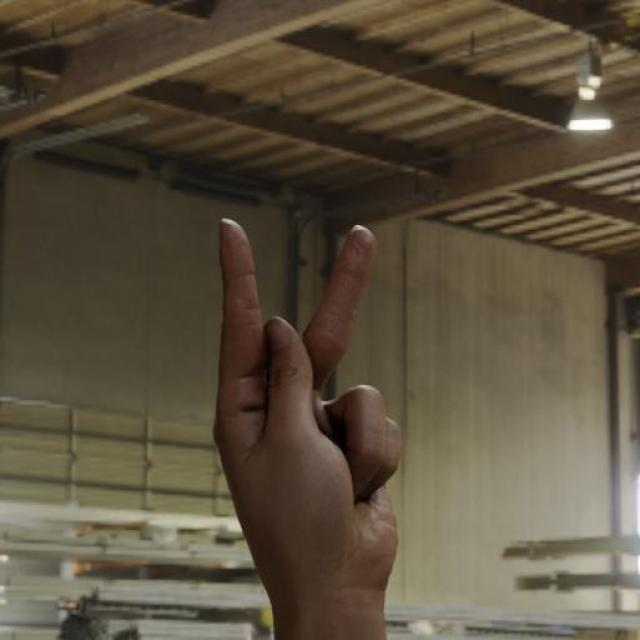K: (208, 217, 406, 598)
